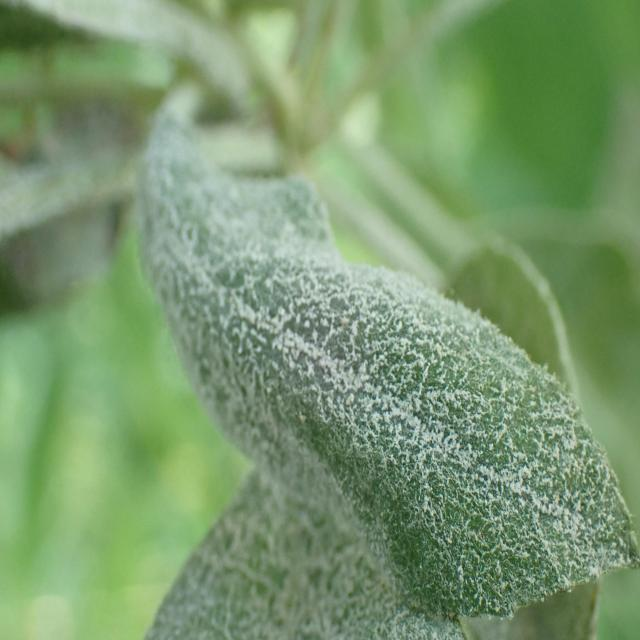Powdery_mildew: (99, 56, 638, 604), (107, 463, 541, 640)
